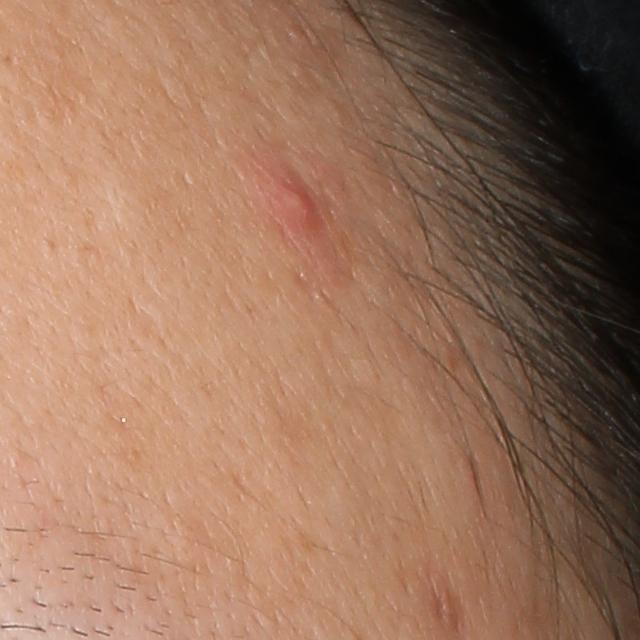papule: (275, 182, 326, 231)
